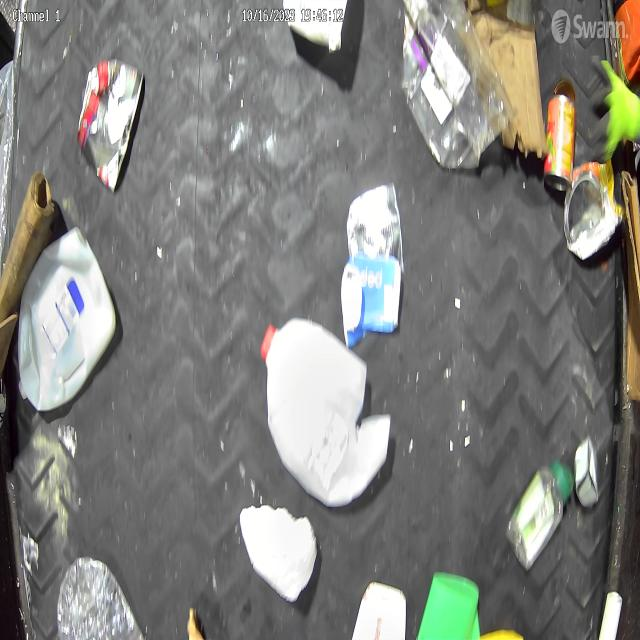can: (76, 58, 144, 192), (562, 156, 624, 262), (346, 184, 405, 268), (573, 436, 600, 509)
milk_jug: (260, 315, 392, 508), (17, 224, 118, 413)
plastic_bottle: (504, 462, 574, 572)
